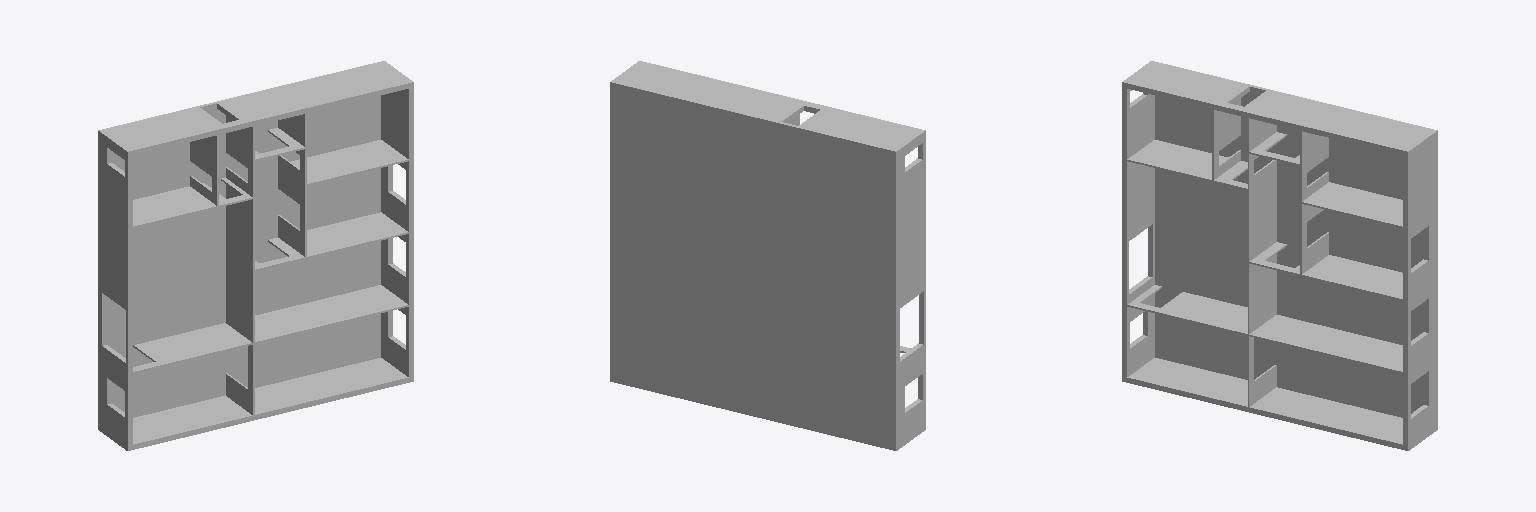
The model's file is casa.obj.
The picture shows the model from 3 angles: view 1: azimuth 30°, elevation 25°; view 2: azimuth 150°, elevation 25°; view 3: azimuth 330°, elevation 25°; orthographic projection.
Bounding box in the file's own units: 16.9 × 16.9 × 3.